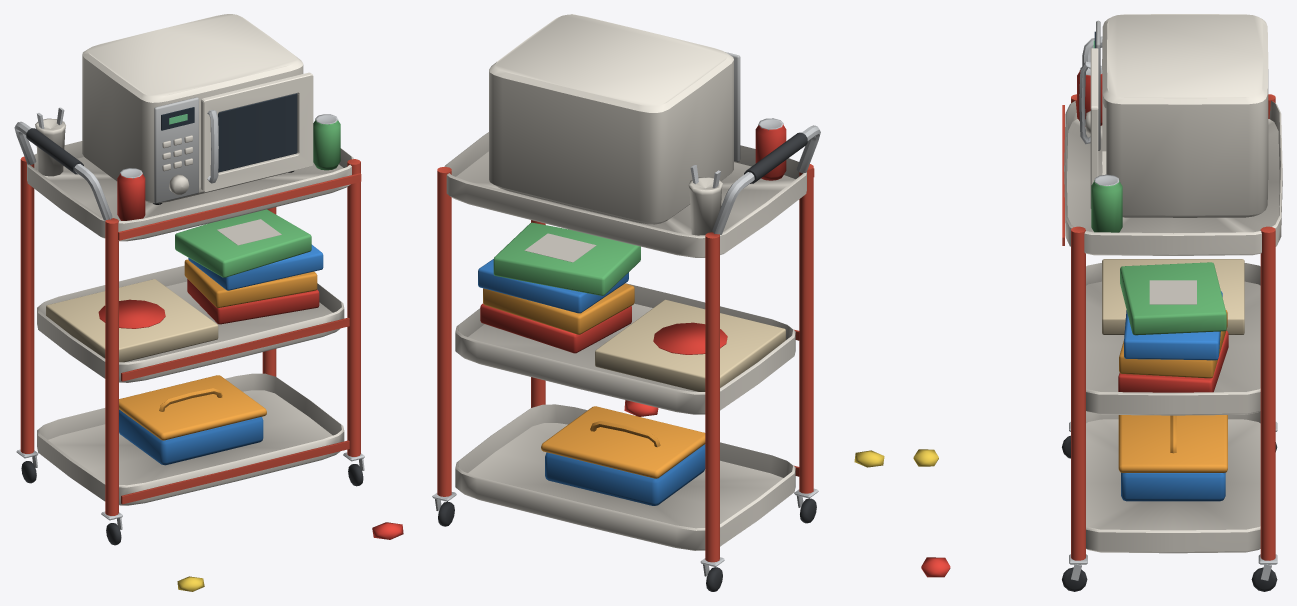
The model's file is microwaveCart.glb.
3 views of the same model, side by side, from view 1: azimuth 30°, elevation 25°; view 2: azimuth 150°, elevation 25°; view 3: azimuth 270°, elevation 25° (orthographic). The views are drawn at different scales.
Parts seen in each view (by area): view 1: body, door; view 2: body; view 3: body, door.
Part boxes in pixels (left/top/right/bottom): body: left=14, top=14, right=403, bottom=591; door: left=201, top=72, right=313, bottom=192; body: left=432, top=14, right=884, bottom=591; body: left=913, top=14, right=1282, bottom=591; door: left=1079, top=48, right=1098, bottom=208.
Bounding box in the file's own units: 0.7352 × 1.1 × 0.7774.
